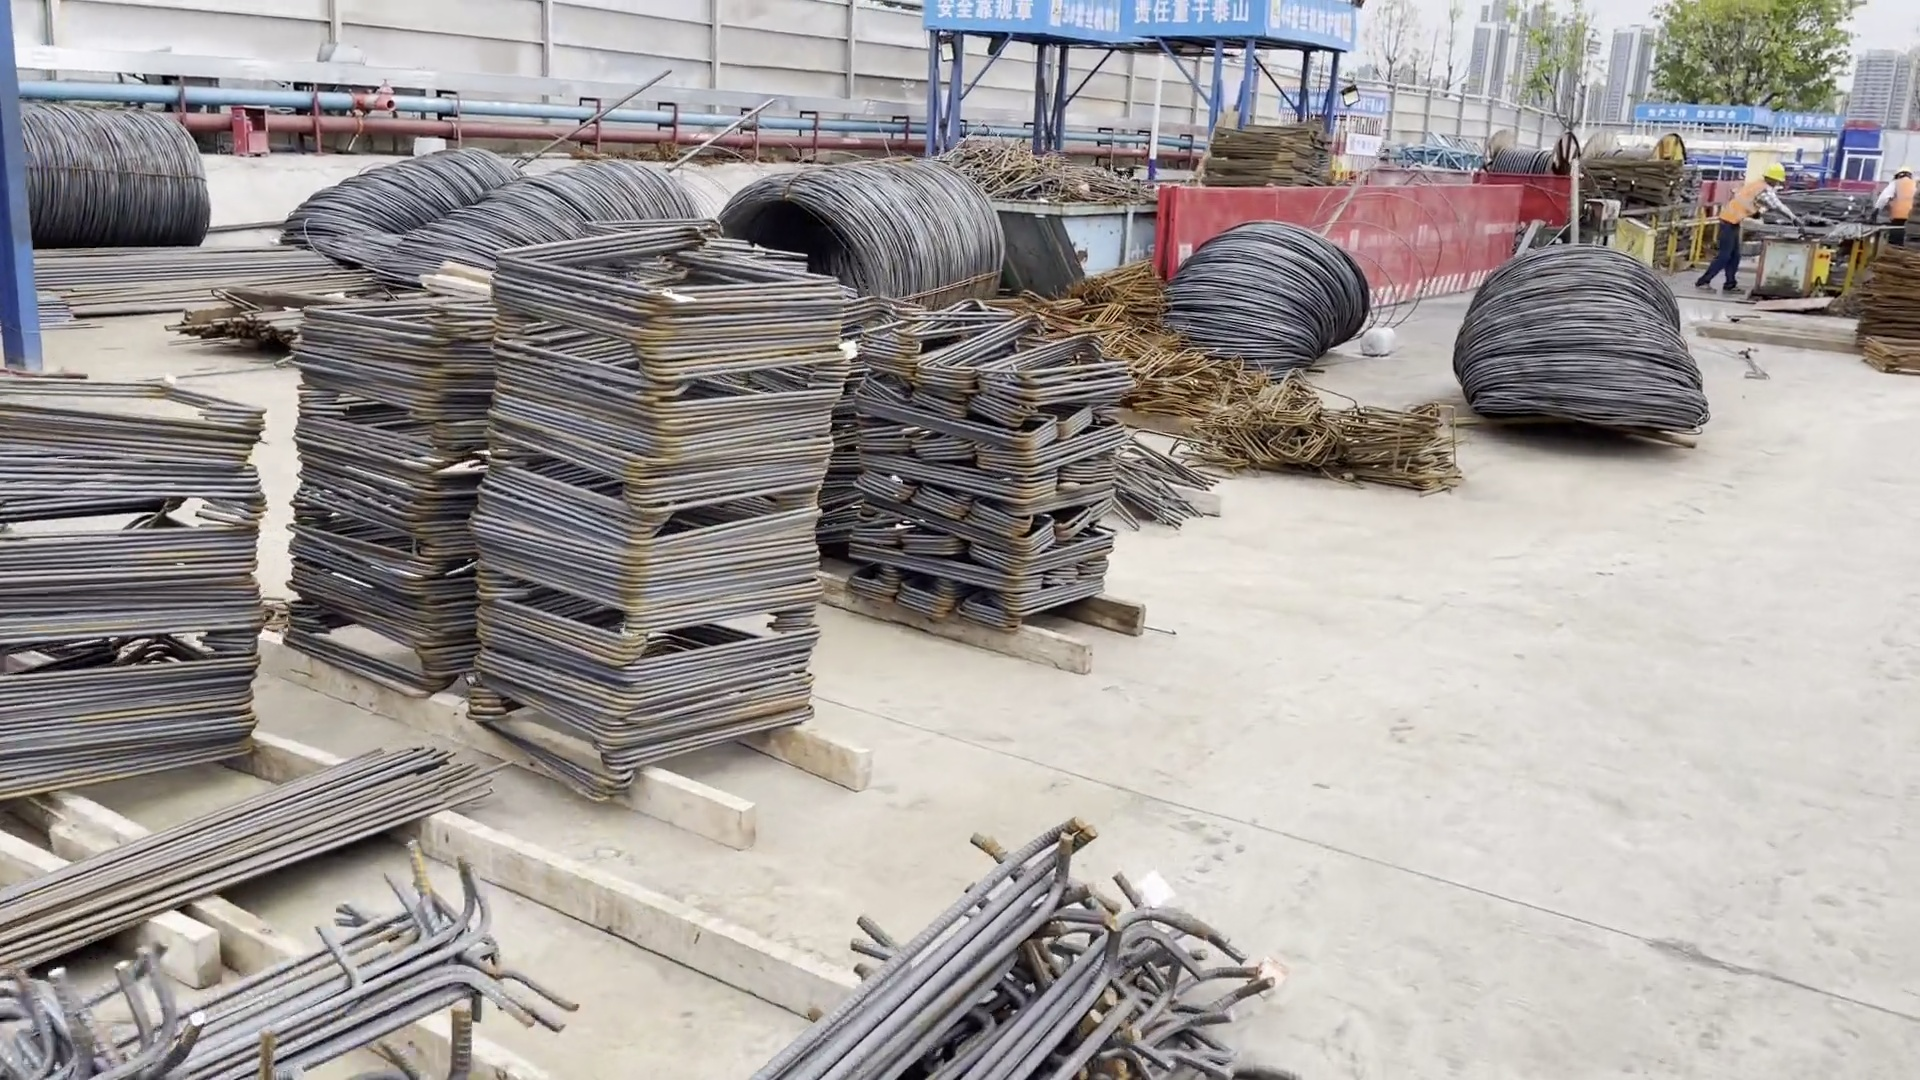cutter: (1754, 218, 1845, 300)
ebox: (1614, 203, 1661, 259)
fence: (1146, 182, 1526, 314), (1475, 165, 1583, 238)
helmet: (1761, 158, 1795, 181), (1888, 160, 1915, 179)
hopper: (985, 181, 1164, 299)
person: (1694, 161, 1794, 295), (1861, 158, 1920, 237)
rebar: (2, 754, 1329, 1080)
slogan: (904, 1, 1371, 61), (1623, 87, 1840, 141), (1272, 85, 1399, 124)
vest: (1718, 174, 1775, 247), (1868, 177, 1920, 228)
